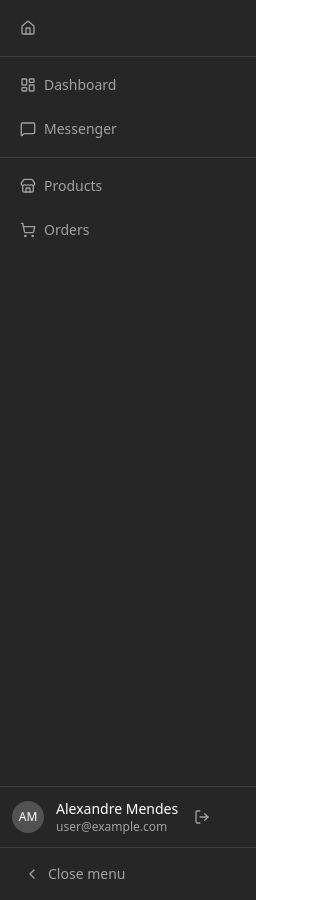
Test: <Sidebar /> - Collapse › expands back when toggle is clicked twice
Click the button with aria-label "Collapse sidebar" at (128, 874), box [8,856,248,892]
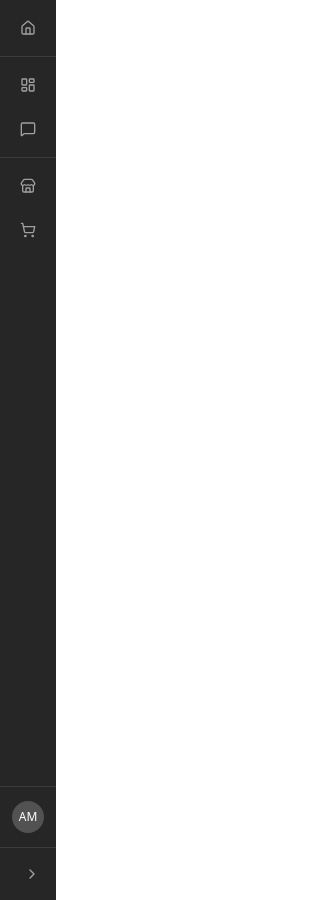
Click the button with aria-label "Expand sidebar" at (28, 874), box [8,856,48,892]
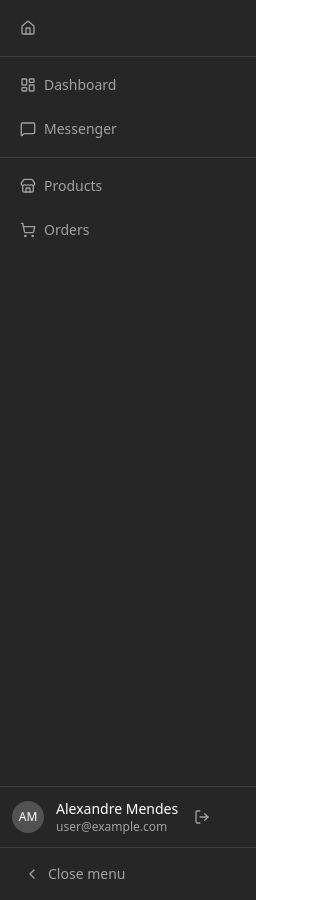
expect the button with aria-label "Collapse sidebar" is shown: met, box [8,856,248,892]
